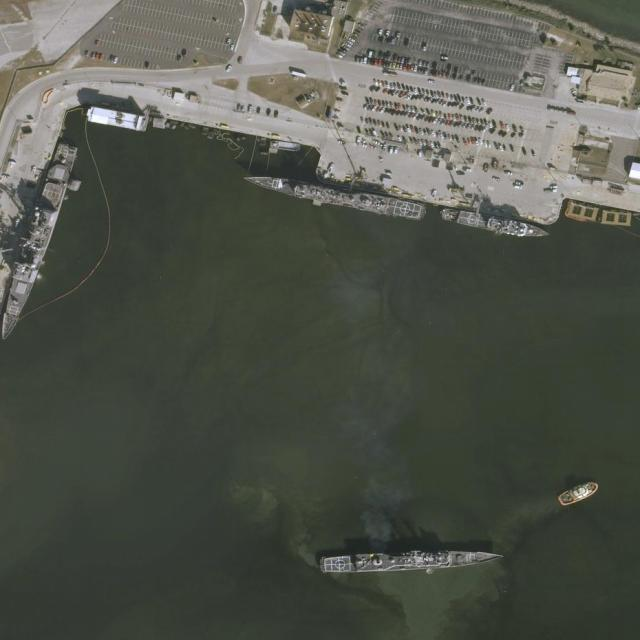Cruiser: (1, 140, 79, 338)
Frigate: (240, 170, 426, 220), (438, 206, 551, 242), (319, 548, 502, 570)
Hovercraft: (555, 478, 601, 509)
